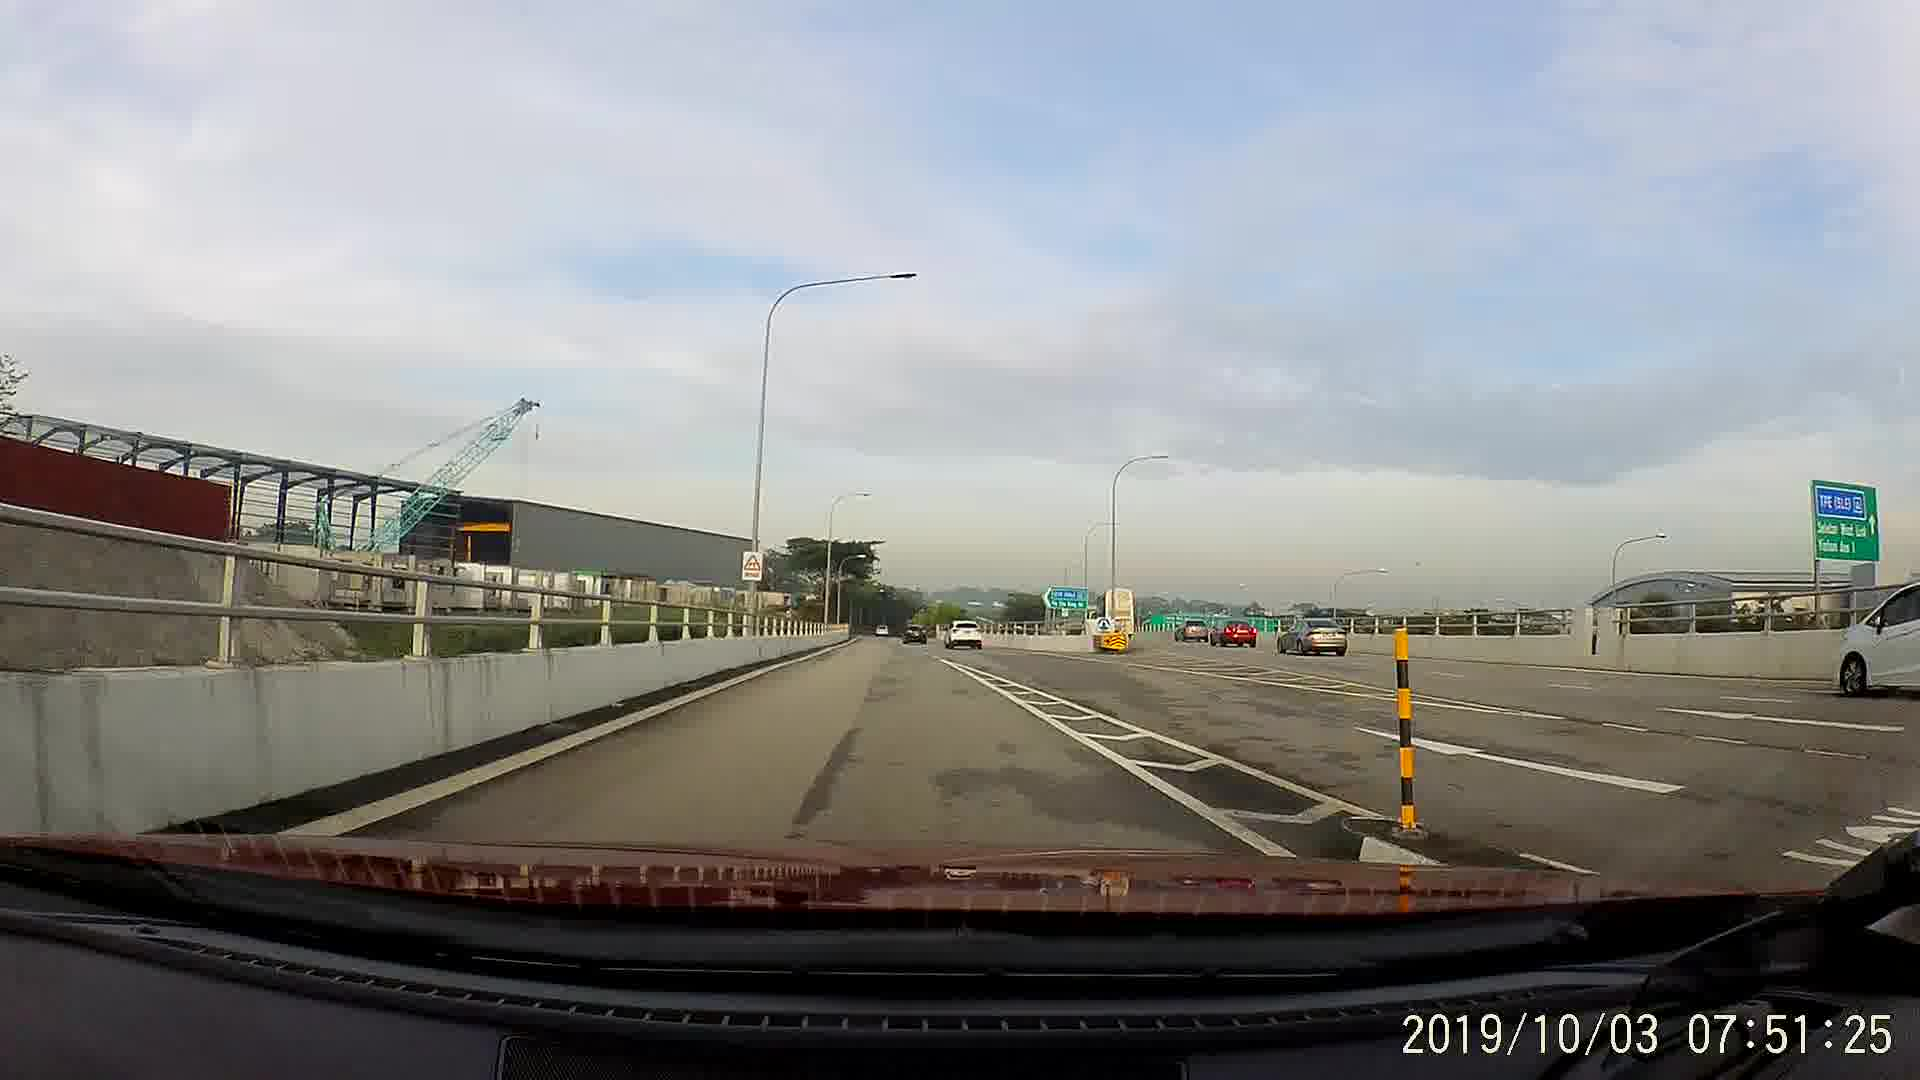bus: (1098, 588, 1137, 637)
car: (1840, 578, 1917, 698), (1274, 615, 1348, 659), (1215, 617, 1258, 651), (939, 618, 984, 647), (1170, 618, 1211, 644), (903, 625, 927, 645), (874, 621, 890, 637)
